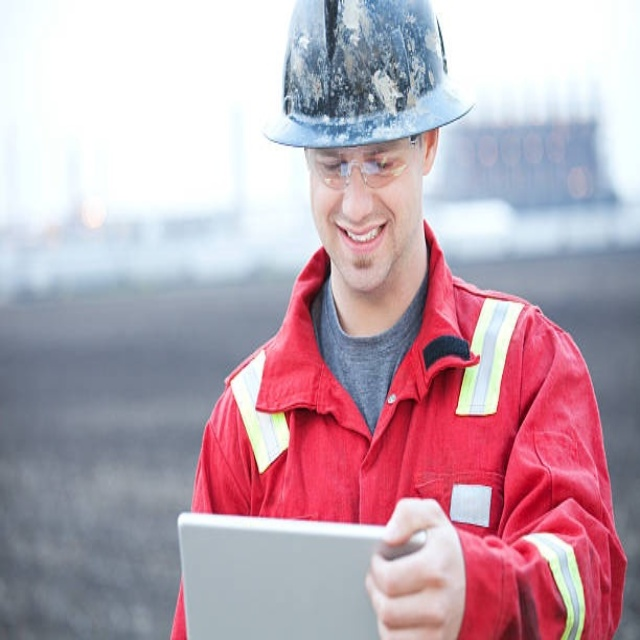Gafas: (308, 136, 423, 191)
Sin_guantes: (364, 494, 467, 640)
Sin_mascara: (323, 205, 399, 282)
